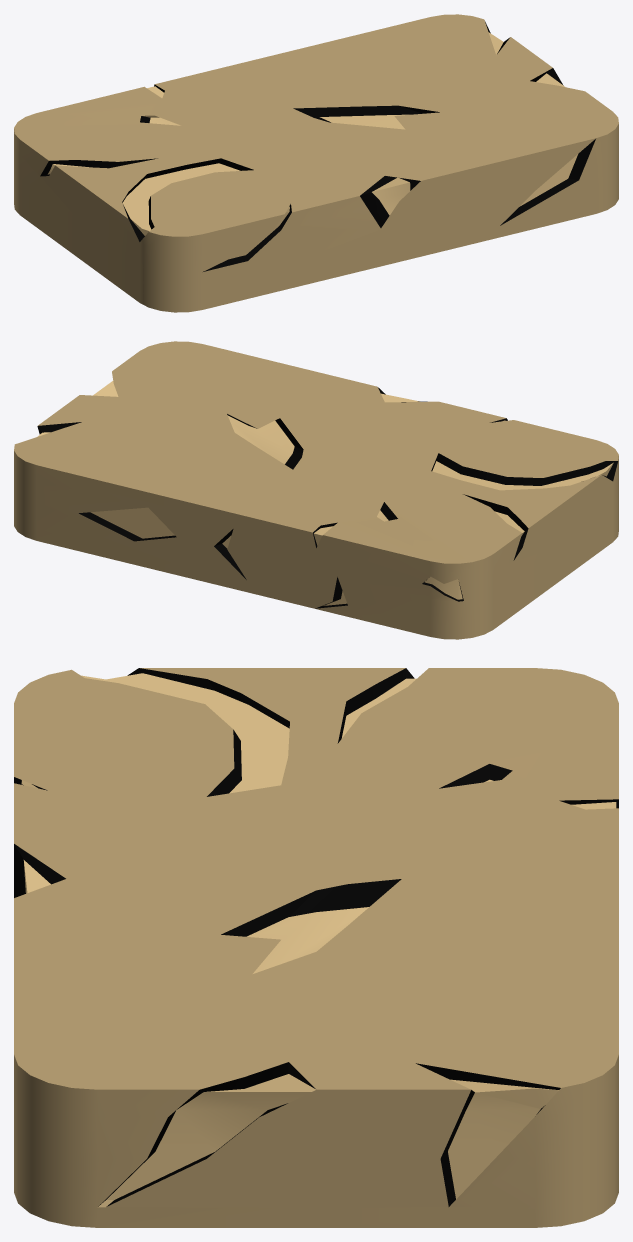
Rendered from LQ Brick 2.fbx.
The picture shows the model from 3 angles, top to bottom: view 1: azimuth 30°, elevation 25°; view 2: azimuth 150°, elevation 25°; view 3: azimuth 270°, elevation 25°; orthographic projection. The views are drawn at different scales.
Parts seen in each view (by area): view 1: pCube3; view 2: pCube3; view 3: pCube3.
Boxes of the visible parts, bbox=[...] form: pCube3: bbox=[14, 14, 618, 312]; pCube3: bbox=[14, 341, 618, 639]; pCube3: bbox=[14, 668, 618, 1227].
Size of the model in its own units: 2.48 by 0.3794 by 1.5.
